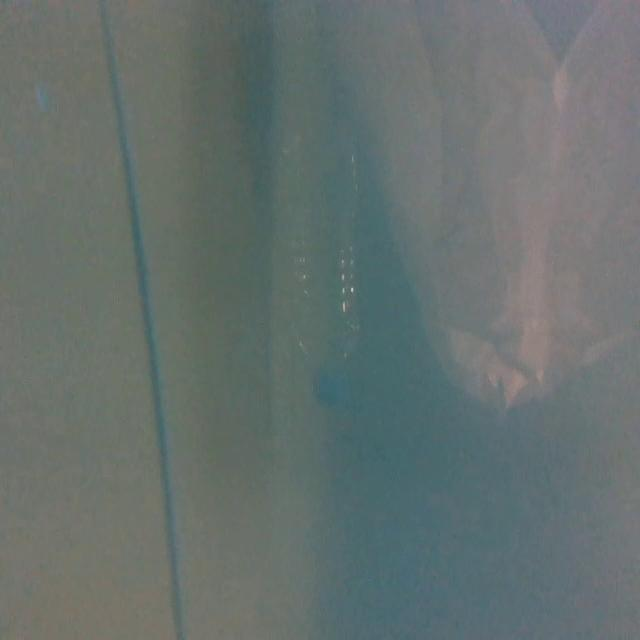plastic bags: (351, 4, 637, 391)
plastic bottle: (268, 113, 363, 411)
